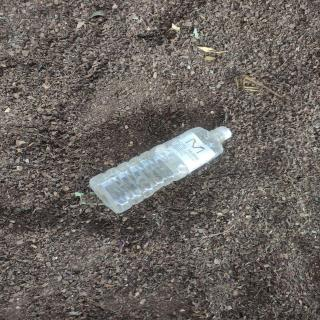Plastic-bottle: (89, 124, 239, 219)
